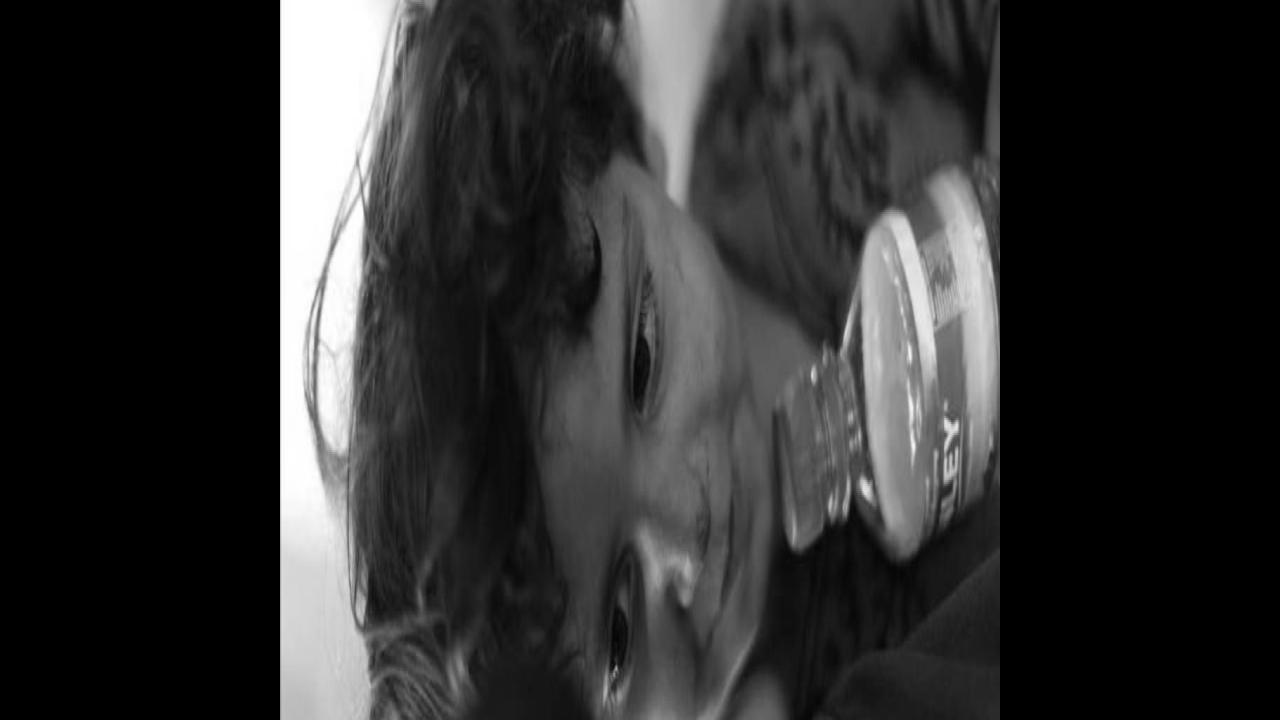bottle_cap: (769, 370, 824, 550)
